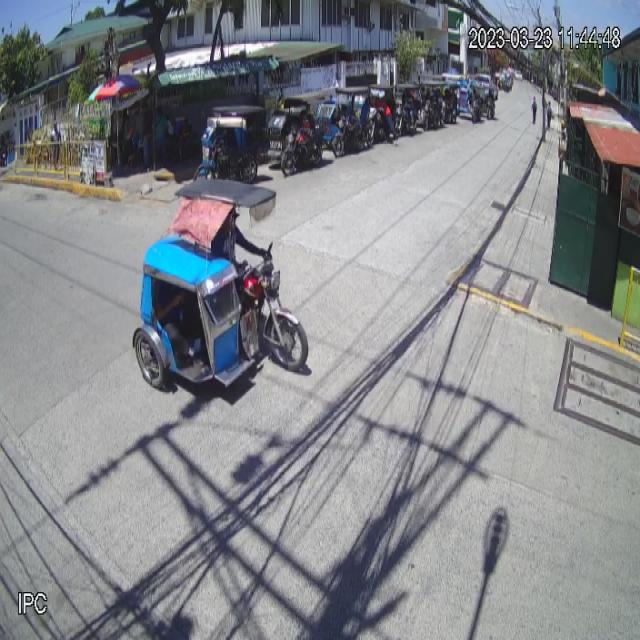Tricycle: (132, 178, 309, 392)
